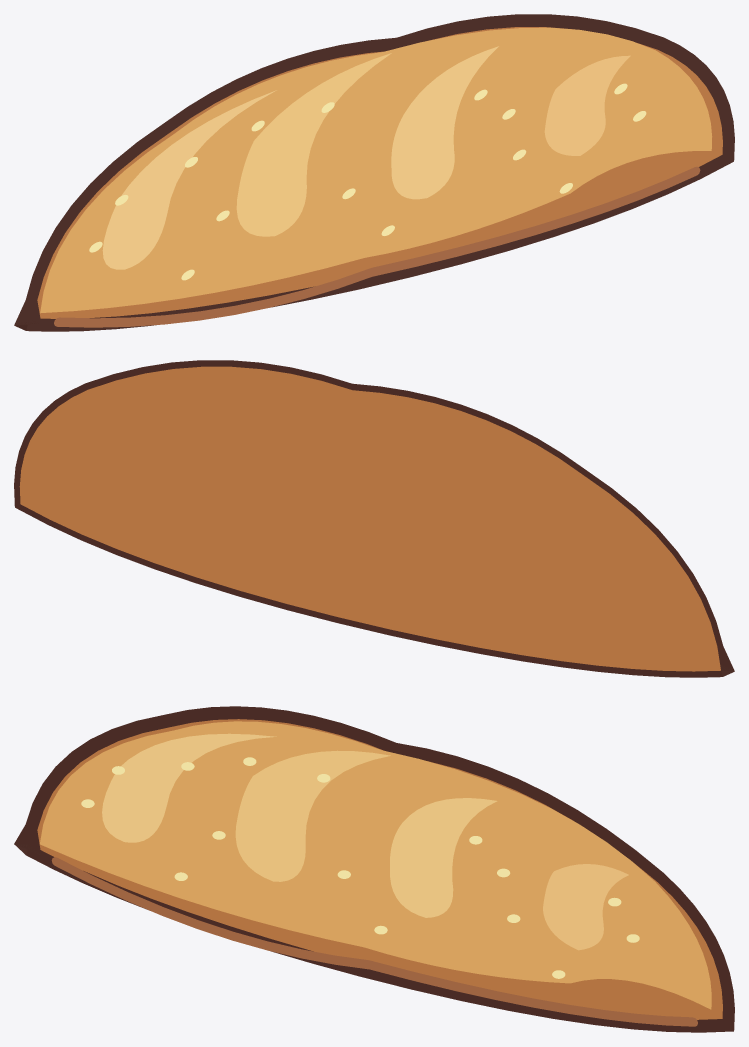
File: paine.glb
3 views of the same model, one above another, from view 1: azimuth 30°, elevation 25°; view 2: azimuth 150°, elevation 25°; view 3: azimuth 330°, elevation 25° (orthographic).
Visible parts, largest first — view 1: Round scored bread.001; view 2: Round scored bread.001; view 3: Round scored bread.001.
Boxes of the visible parts, box(x1,y1,x2,y2) form: Round scored bread.001: box(14, 14, 734, 331); Round scored bread.001: box(14, 360, 734, 677); Round scored bread.001: box(14, 706, 734, 1032).
Size of the model in its own units: 2.06 by 0.6837 by 0.0216.
